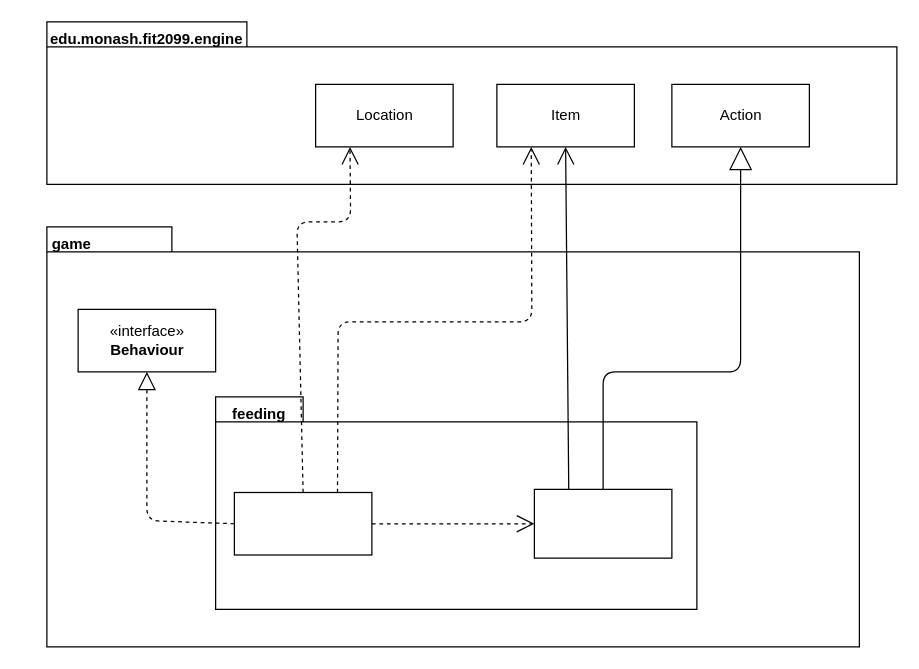
The diagram is 919 pixels wide and 669 high, and some of its shapes have lost their labels. The shapes that lost their labels are listed below. From the top down, each one's centre as x and y in pixels, then its label:
At [302,523]: "FeedingBehaviour".
At [602,523]: "FeedingAction".
